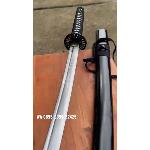Pedang: (42, 5, 86, 150)
